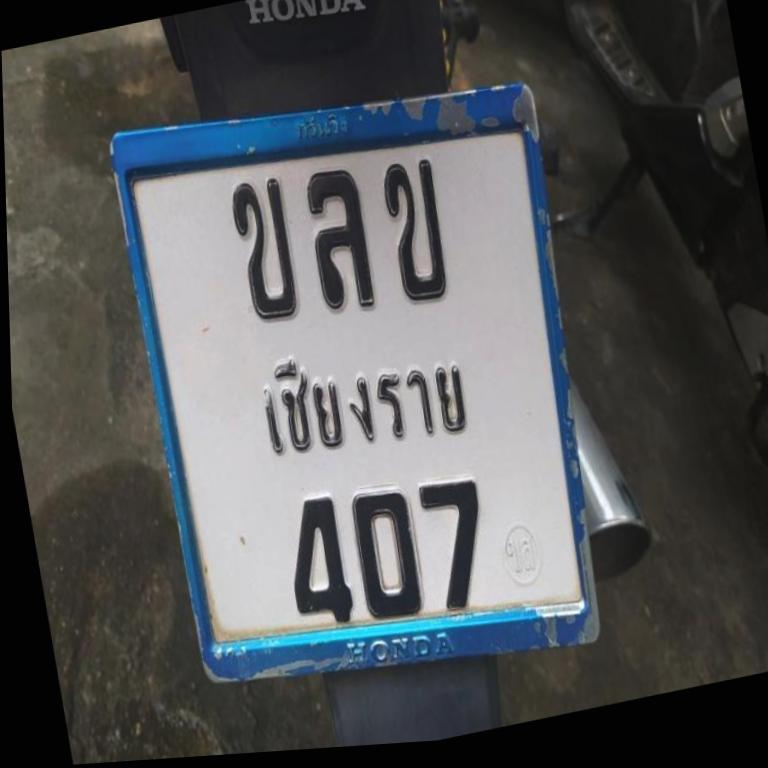license plate: (100, 36, 618, 729)
